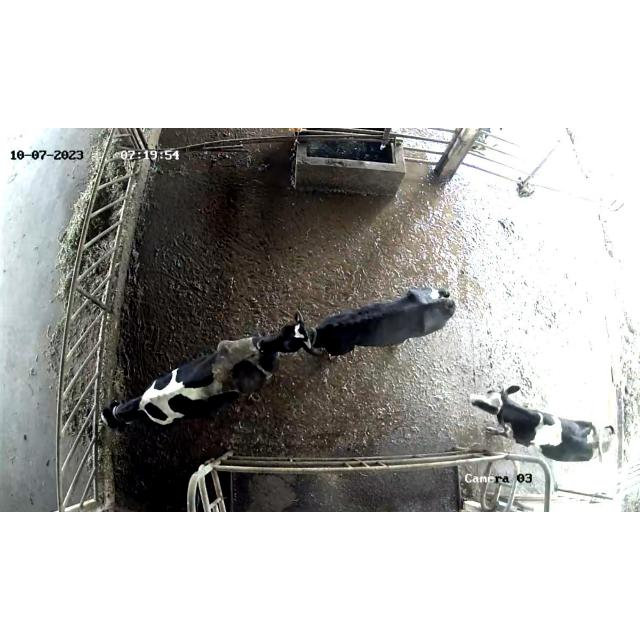propping: (225, 310, 342, 370)
